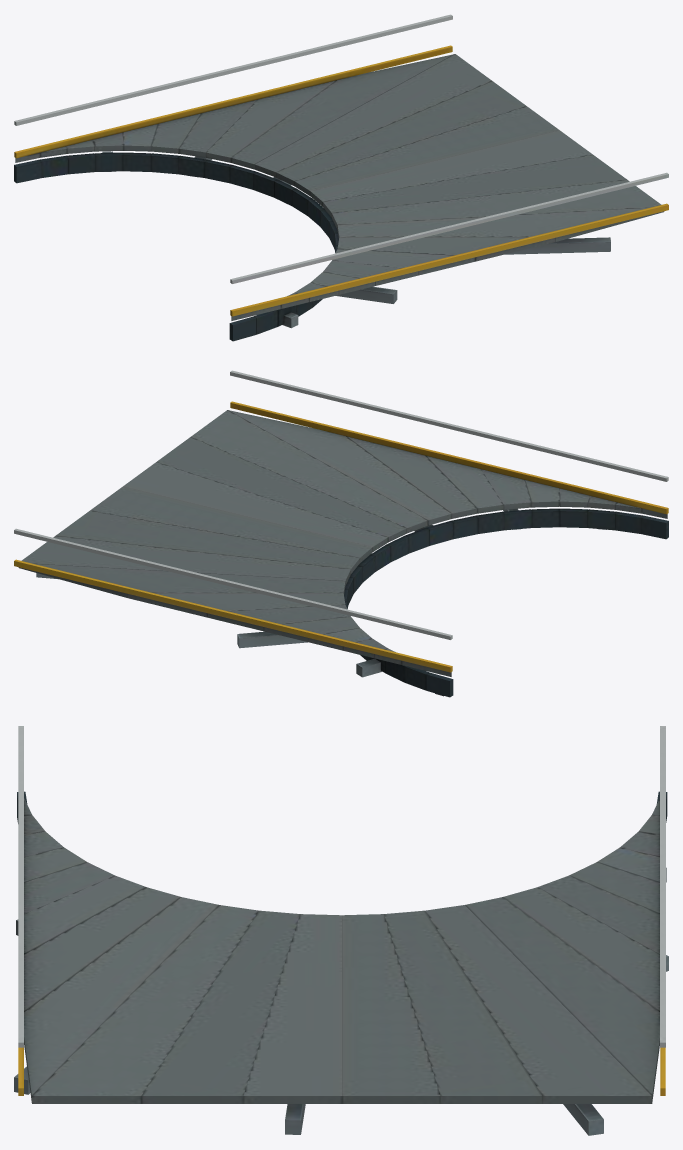
File: platform_v3_far.glb
3 renders of one model, top to bottom at view 1: azimuth 30°, elevation 25°; view 2: azimuth 150°, elevation 25°; view 3: azimuth 270°, elevation 25°, orthographic. The views are drawn at different scales.
Parts seen in each view (by area): view 1: body; view 2: body; view 3: body.
Part boxes in pixels (bbox=[...]): body: bbox=[14, 14, 668, 341]; body: bbox=[14, 370, 668, 697]; body: bbox=[14, 726, 668, 1135].
Size of the model in its own units: 14.05 by 1.91 by 12.25.
1 material, 1 textured.
